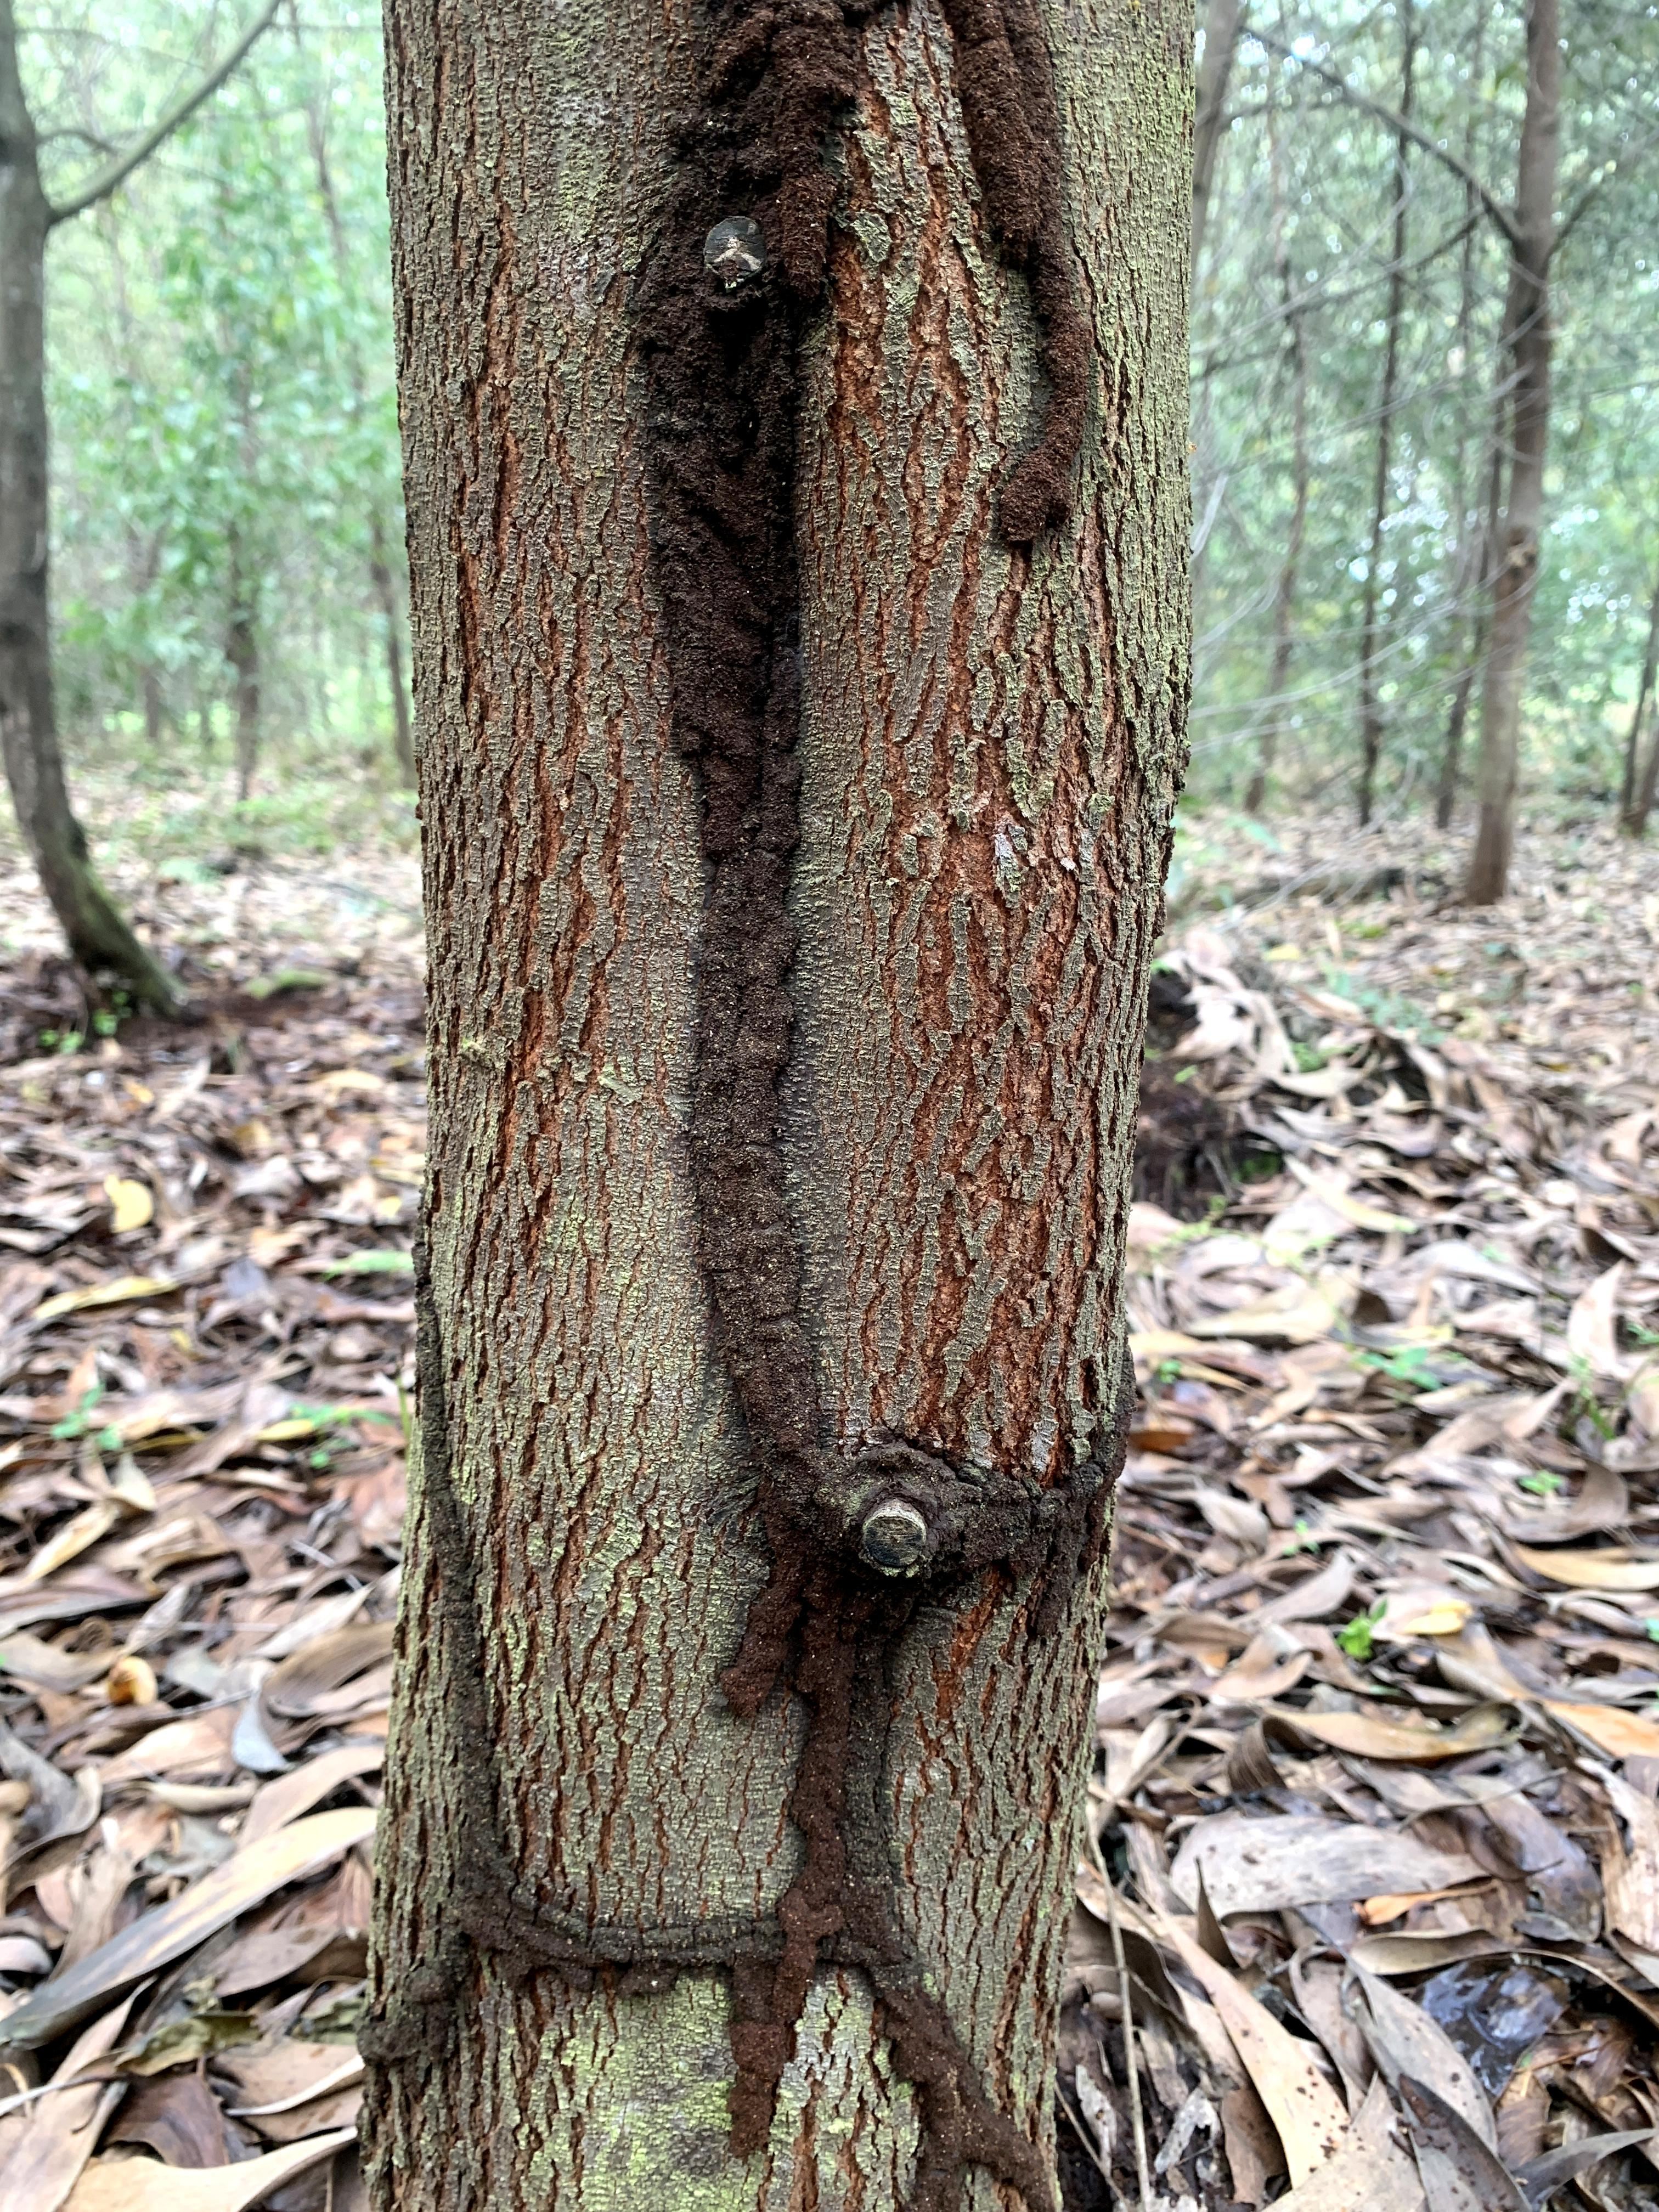Termite - Nest: (587, 0, 1108, 2212), (342, 1280, 556, 2142)
